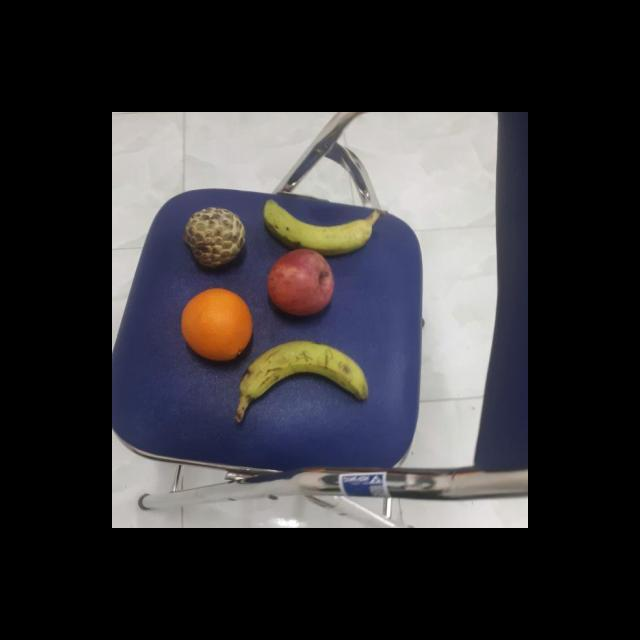Sakya fruit: (178, 202, 248, 269)
apple: (264, 245, 338, 318)
banana: (232, 340, 372, 405), (256, 198, 376, 255)
orange: (176, 284, 256, 362)
